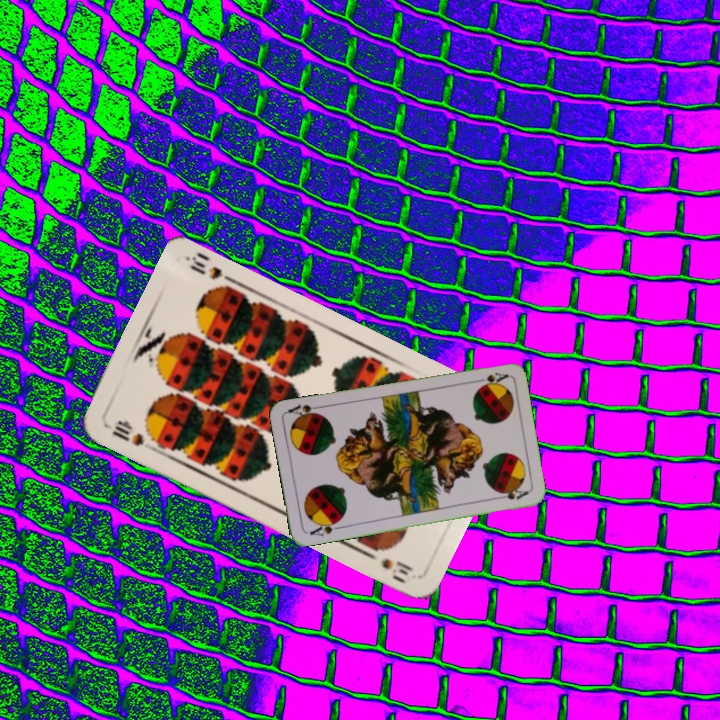S10: (108, 417, 160, 449)
SA: (306, 516, 345, 539), (470, 368, 510, 389)
